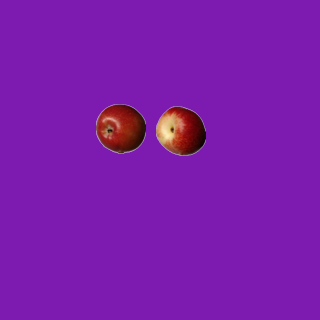Apple Braeburn: (95, 103, 145, 153)
Nectarine: (155, 105, 205, 155)
